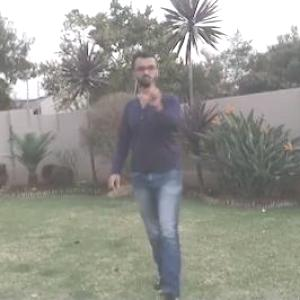land_hand: (135, 71, 167, 112)
